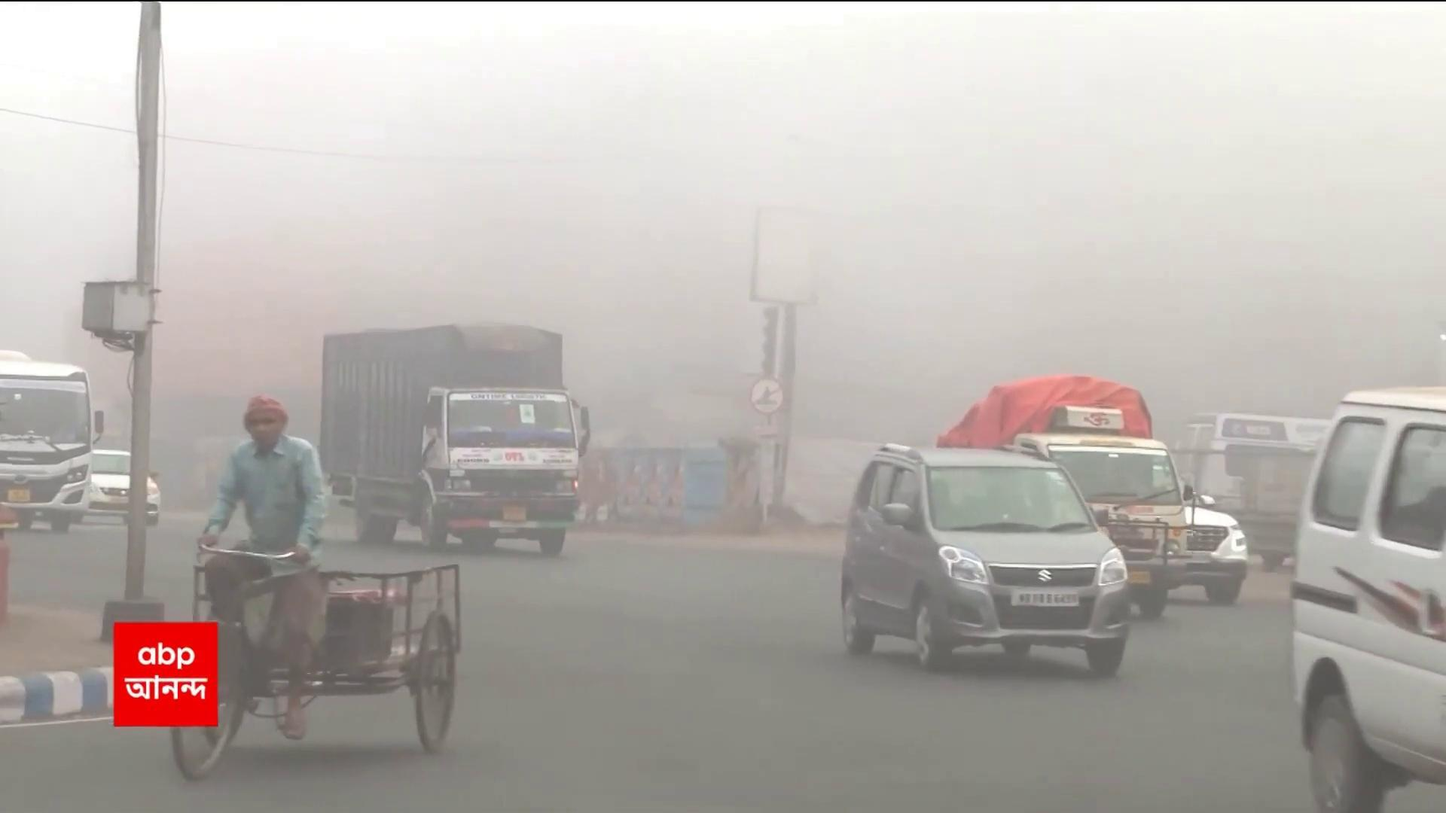Bus: (0, 353, 94, 539)
Car: (834, 450, 1129, 682), (96, 441, 162, 527)
Truck: (951, 381, 1251, 610), (314, 324, 589, 561)
